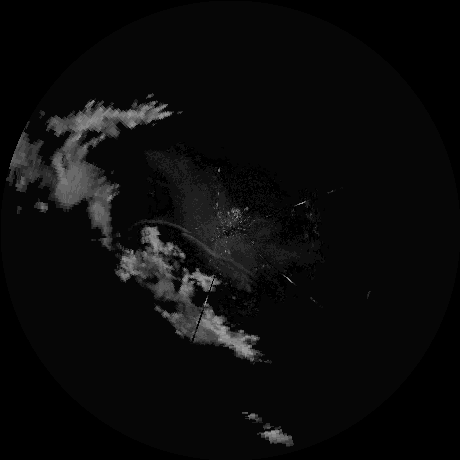frontgust: (144, 218, 254, 275)
